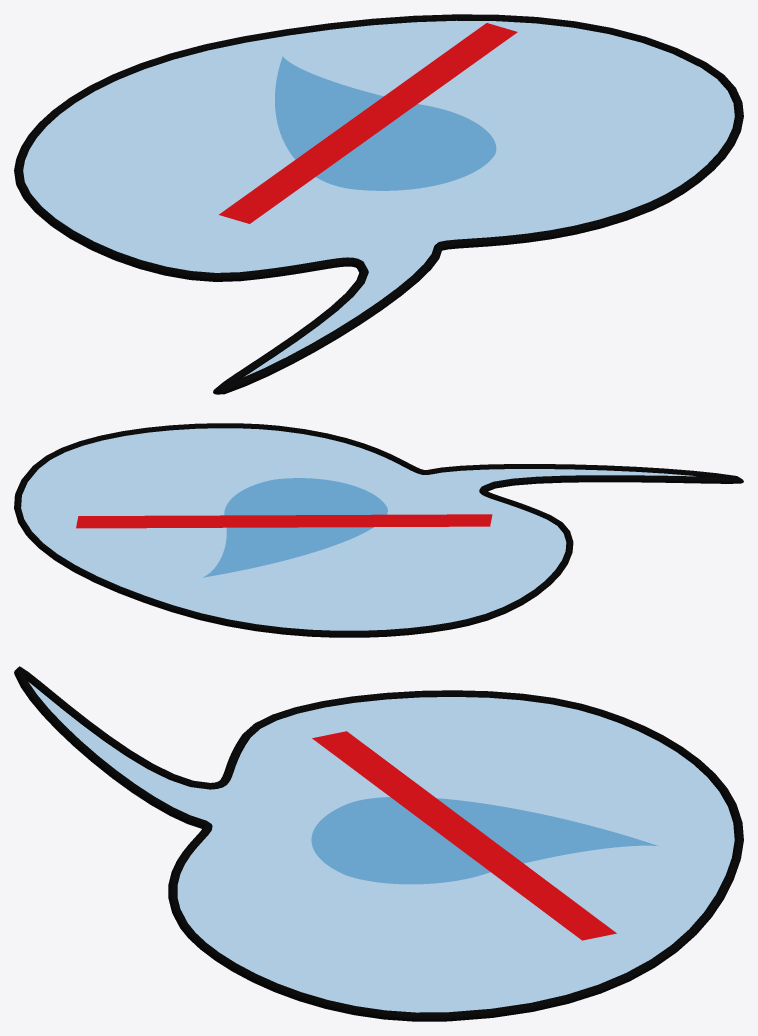
File: OutOfWater.fbx
3 renders of one model, top to bottom at view 1: azimuth 30°, elevation 25°; view 2: azimuth 150°, elevation 25°; view 3: azimuth 270°, elevation 25°, orthographic. The views are drawn at different scales.
Visible parts, largest first — view 1: BezierCircle.016, BezierCircle.017, NurbsCircle, Plane; view 2: BezierCircle.016, BezierCircle.017, NurbsCircle, Plane; view 3: BezierCircle.016, BezierCircle.017, NurbsCircle, Plane.
Boxes of the visible parts, left/top/right/bottom form: BezierCircle.016: left=23, top=20, right=734, bottom=376; BezierCircle.017: left=14, top=14, right=743, bottom=394; NurbsCircle: left=275, top=56, right=496, bottom=190; Plane: left=219, top=23, right=517, bottom=223; BezierCircle.016: left=21, top=428, right=695, bottom=630; BezierCircle.017: left=14, top=423, right=743, bottom=637; NurbsCircle: left=203, top=478, right=387, bottom=577; Plane: left=76, top=514, right=492, bottom=528; BezierCircle.016: left=28, top=682, right=734, bottom=1012; BezierCircle.017: left=14, top=666, right=743, bottom=1021; NurbsCircle: left=311, top=797, right=658, bottom=884; Plane: left=312, top=731, right=616, bottom=940.
Bounding box in the file's own units: 179 × 5.6 × 157.
